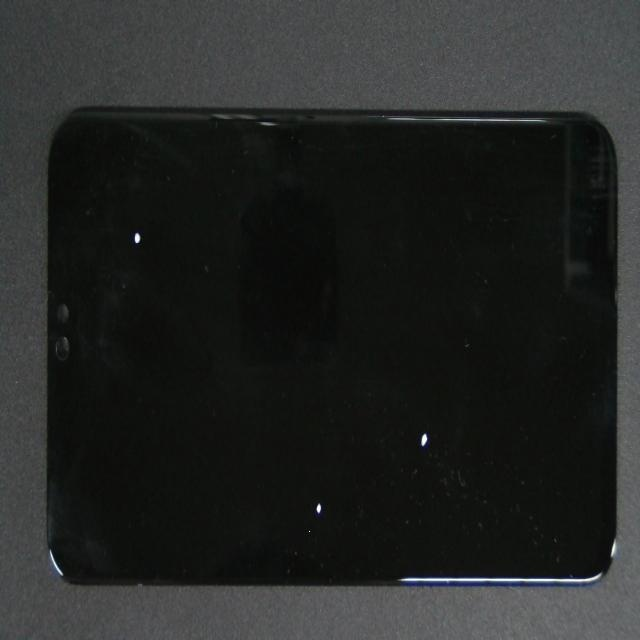stain: (217, 231, 640, 640), (152, 269, 457, 640), (62, 95, 191, 360)
